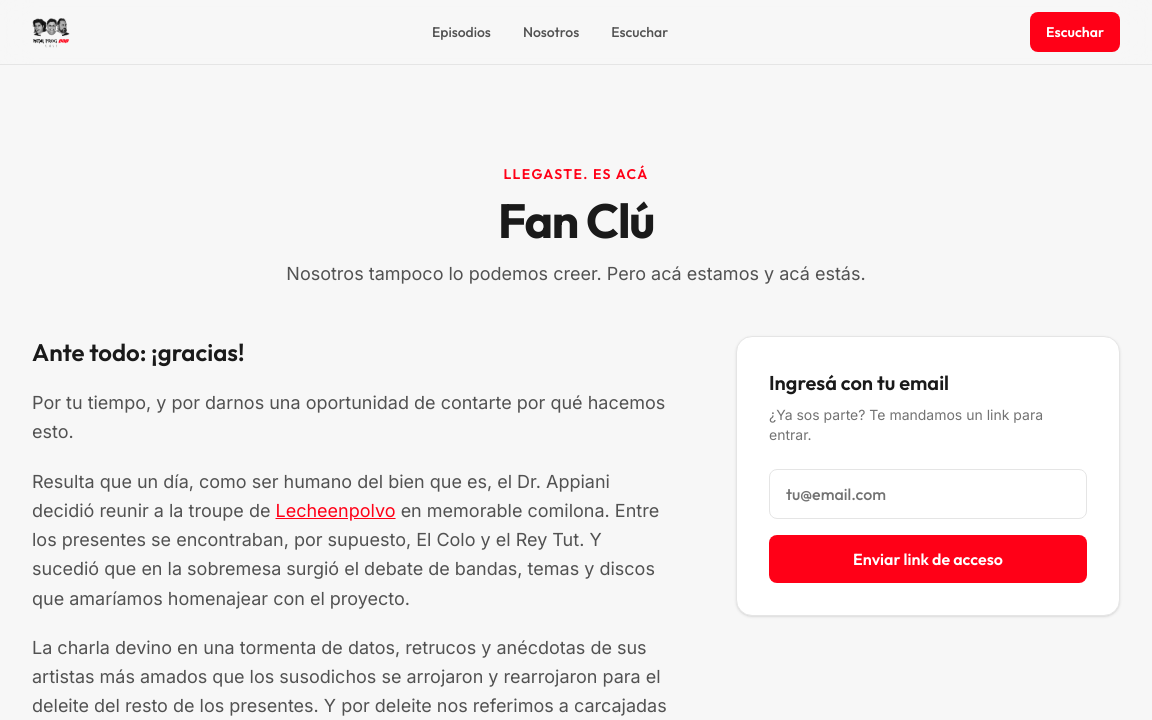
FanCluPage › shows confirmation message after submitting email
The width and height of the screenshot is (1152, 720).
Type "fan@example.com" into the field with placeholder "tu@email.com" at x=928, y=494, box [769,469,1087,519]
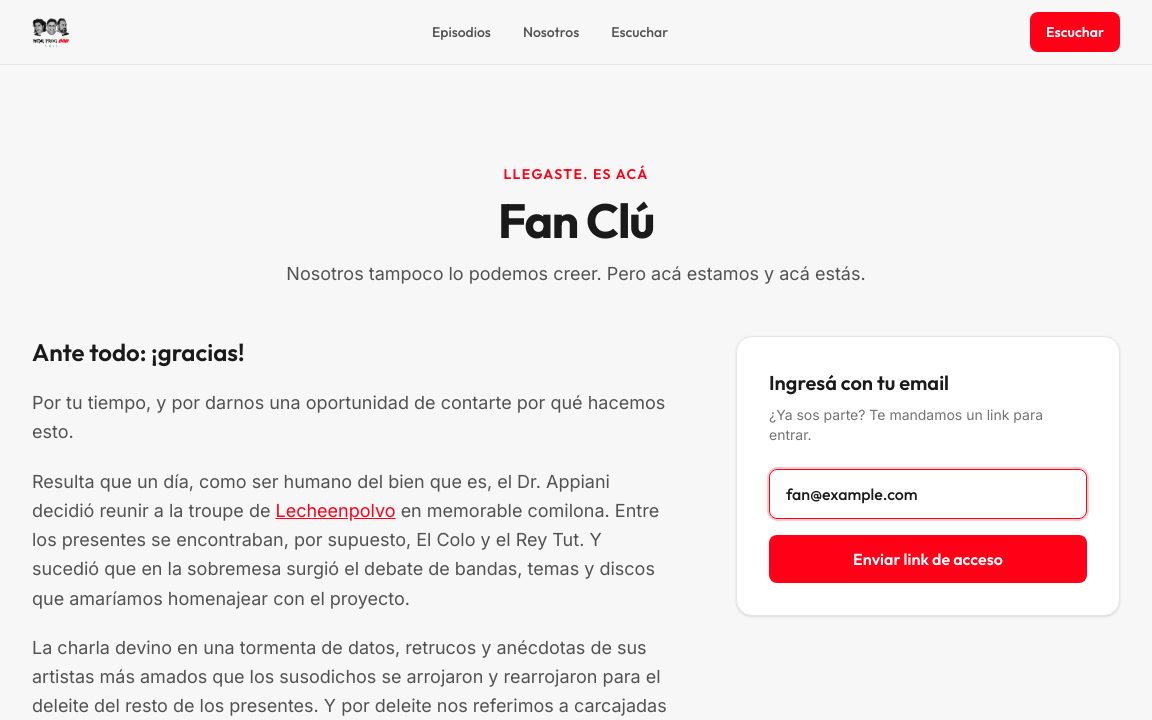
Click the button "Enviar link de acceso" at x=928, y=559, box [769,535,1087,583]
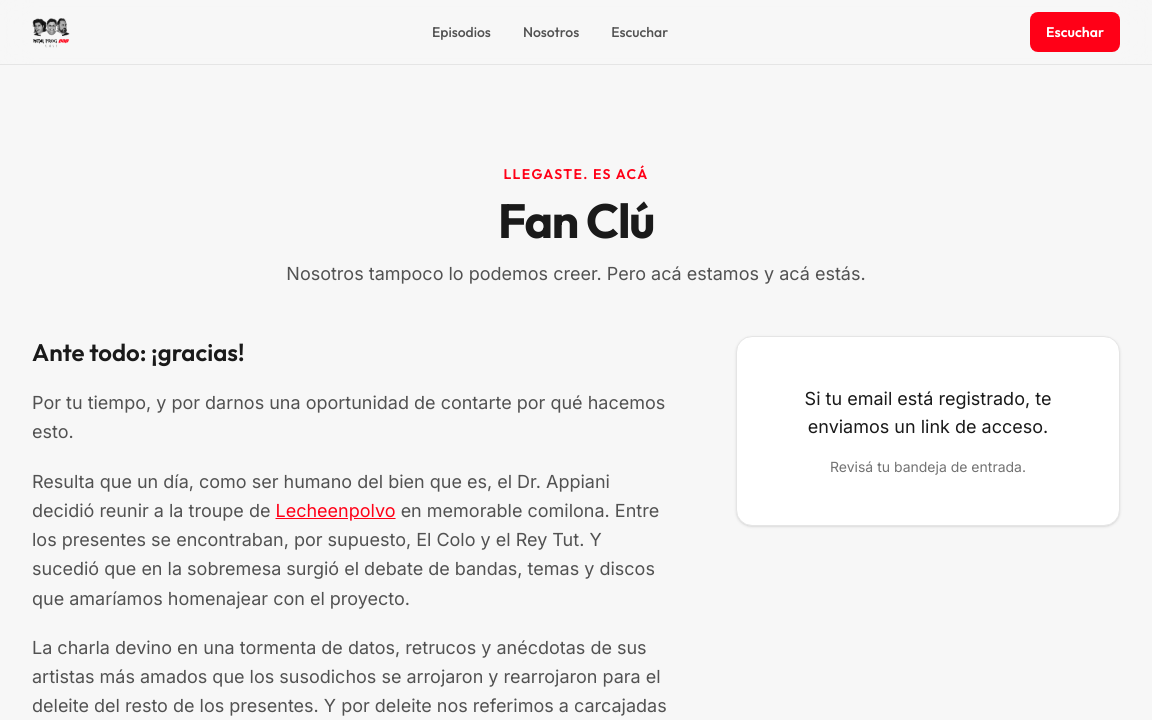
expect the text "Si tu email está registrado, te enviamos un link de acceso." is shown: met, box [805,388,1051,437]
